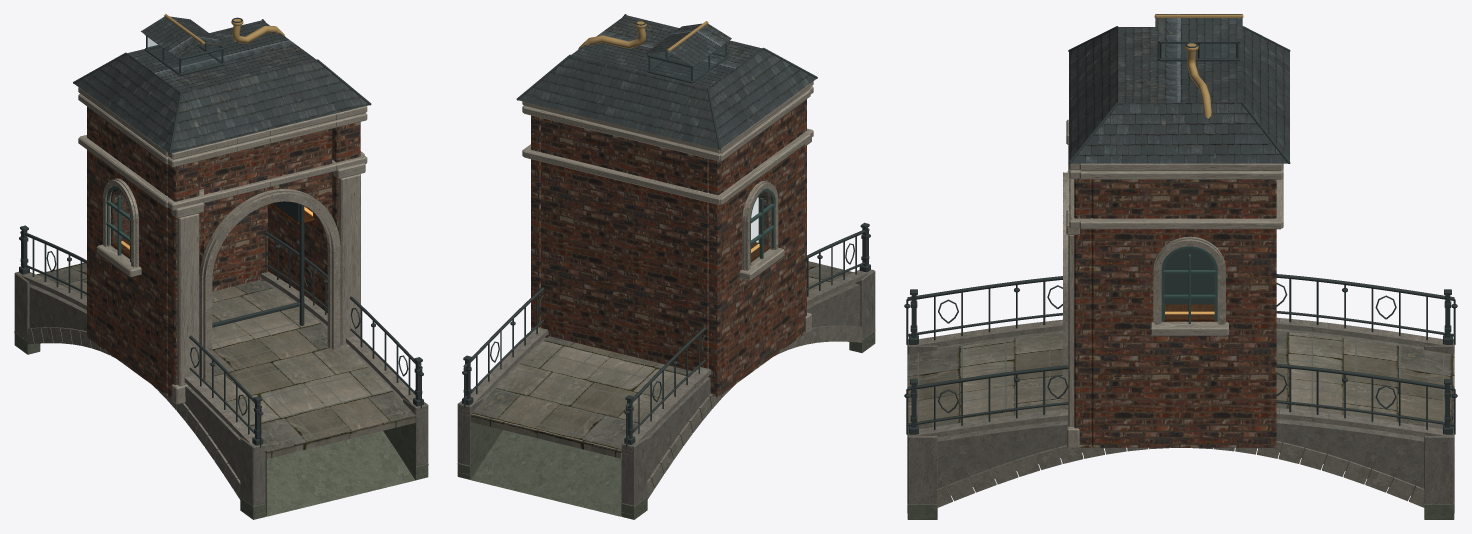
Rendered from civic-details-v1.glb.
3 renders of one model, left to right at view 1: azimuth 30°, elevation 25°; view 2: azimuth 150°, elevation 25°; view 3: azimuth 270°, elevation 25°, orthographic. The views are drawn at different scales.
Parts seen in each view (by area): view 1: Watergate_Structure_Warm weathered brick, Watergate_Roof_Real slate roof, Watergate_Structure_Limestone trim, Civic_Bridge_Bridge worn wet paving, Civic_Bridge_Bridge damp algae stone, Civic_Bridge_Bridge grey brown masonry, Civic_Bridge_Bridge dressed voussoir stone, Civic_Bridge_Blackened cast iron, Civic_Bridge_Bridge recessed mortar, Watergate_Structure_Blackened cast iron, Watergate_Roof_Blackened cast iron, Watergate_Roof_Recessed blue green glass (+3 smaller); view 2: Watergate_Structure_Warm weathered brick, Watergate_Roof_Real slate roof, Civic_Bridge_Bridge worn wet paving, Civic_Bridge_Bridge damp algae stone, Watergate_Structure_Limestone trim, Civic_Bridge_Bridge grey brown masonry, Civic_Bridge_Bridge dressed voussoir stone, Civic_Bridge_Blackened cast iron, Civic_Bridge_Bridge recessed mortar, Watergate_Roof_Blackened cast iron, Watergate_Roof_Recessed blue green glass, Watergate_Structure_Oxidised green joinery (+2 smaller); view 3: Watergate_Structure_Warm weathered brick, Watergate_Roof_Real slate roof, Civic_Bridge_Bridge worn wet paving, Civic_Bridge_Bridge grey brown masonry, Civic_Bridge_Bridge dressed voussoir stone, Watergate_Structure_Limestone trim, Civic_Bridge_Blackened cast iron, Civic_Bridge_Bridge recessed mortar, Watergate_Structure_Recessed blue green glass, Watergate_Structure_Blackened cast iron, Watergate_Roof_Blackened cast iron, Watergate_Structure_Oxidised green joinery (+4 smaller).
Part boxes in pixels (x1,y1,x2,y2): Watergate_Structure_Warm weathered brick: (87,106,360,398); Watergate_Roof_Real slate roof: (74,16,369,153); Watergate_Structure_Limestone trim: (78,87,367,404); Civic_Bridge_Bridge worn wet paving: (36,262,415,459); Civic_Bridge_Bridge damp algae stone: (14,332,428,519); Civic_Bridge_Bridge grey brown masonry: (14,271,428,514); Civic_Bridge_Bridge dressed voussoir stone: (14,271,428,508); Civic_Bridge_Blackened cast iron: (19,225,423,447); Civic_Bridge_Bridge recessed mortar: (28,264,413,474); Watergate_Structure_Blackened cast iron: (212,17,304,327); Watergate_Roof_Blackened cast iron: (73,19,371,154); Watergate_Roof_Recessed blue green glass: (147,37,221,72); Watergate_Structure_Warm weathered brick: (531,99,806,397); Watergate_Roof_Real slate roof: (518,15,816,148); Civic_Bridge_Bridge worn wet paving: (470,261,853,458); Civic_Bridge_Bridge damp algae stone: (457,330,875,519); Watergate_Structure_Limestone trim: (522,81,813,333); Civic_Bridge_Bridge grey brown masonry: (457,269,875,514); Civic_Bridge_Bridge dressed voussoir stone: (457,270,875,508); Civic_Bridge_Blackened cast iron: (462,222,870,446); Civic_Bridge_Bridge recessed mortar: (459,262,861,474); Watergate_Roof_Blackened cast iron: (516,14,817,149); Watergate_Roof_Recessed blue green glass: (650,44,725,79); Watergate_Structure_Oxidised green joinery: (750,188,774,264); Watergate_Structure_Warm weathered brick: (1074,179,1276,447); Watergate_Roof_Real slate roof: (1069,14,1289,163); Civic_Bridge_Bridge worn wet paving: (907,331,1454,429); Civic_Bridge_Bridge grey brown masonry: (907,328,1454,512); Civic_Bridge_Bridge dressed voussoir stone: (907,317,1454,507); Watergate_Structure_Limestone trim: (1063,119,1283,448); Civic_Bridge_Blackened cast iron: (904,274,1457,434); Civic_Bridge_Bridge recessed mortar: (907,318,1454,491); Watergate_Structure_Recessed blue green glass: (1165,249,1213,318); Watergate_Structure_Blackened cast iron: (1164,42,1214,304); Watergate_Roof_Blackened cast iron: (1068,26,1290,163); Watergate_Structure_Oxidised green joinery: (1161,246,1217,323).
Bounding box in the file's own units: 5.04 × 8.88 × 10.11.
Materials: 15 (8 with a texture image).
